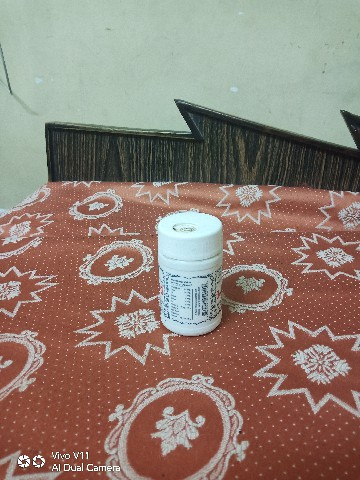lgasafoetidapowder small: (140, 197, 232, 350)
